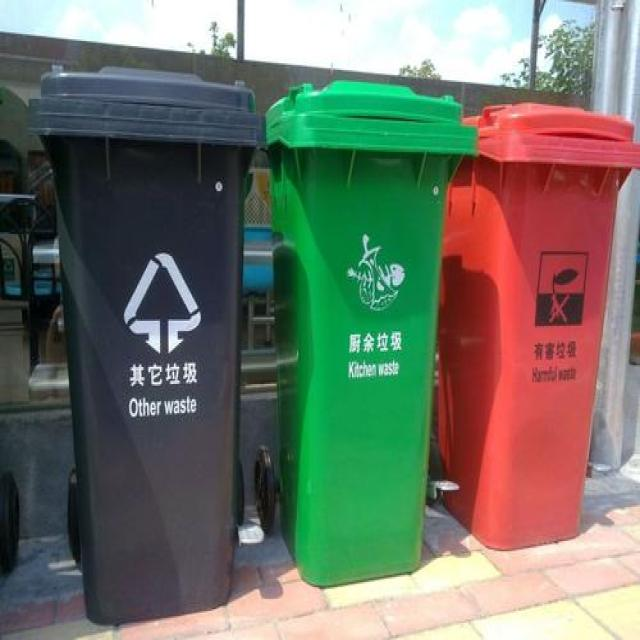garbage_bin: (27, 61, 257, 623), (262, 79, 475, 586), (436, 100, 638, 550)
